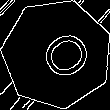O_SW: (23, 22, 90, 86)
